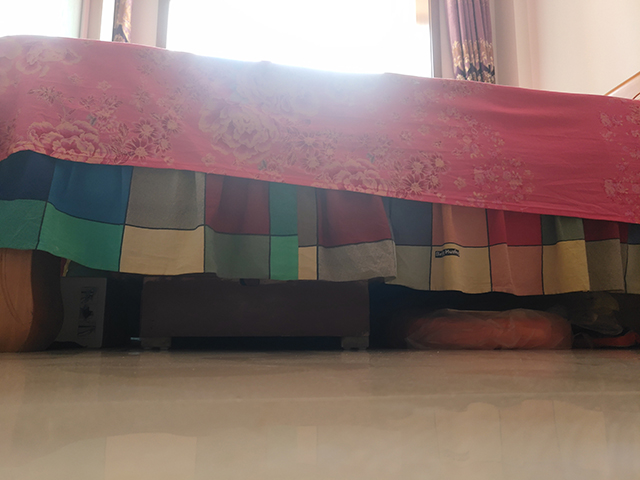bed: (1, 34, 640, 354)
